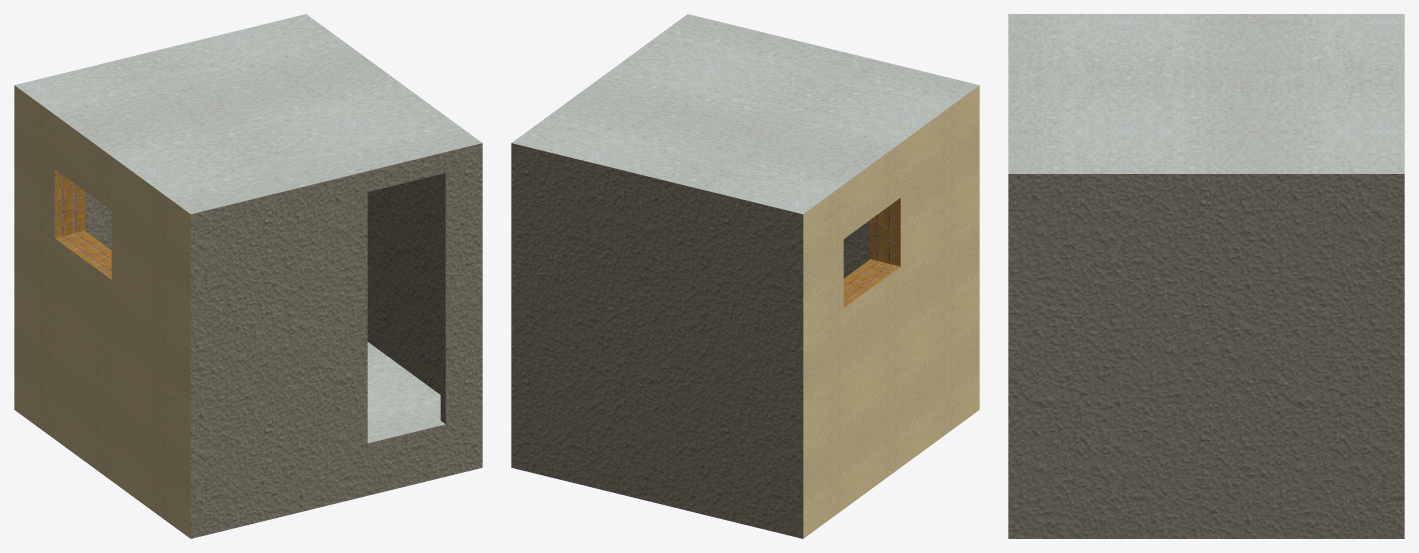
The model's file is chambre3_rdc.obj.
3 views of the same model, side by side, from view 1: azimuth 30°, elevation 25°; view 2: azimuth 150°, elevation 25°; view 3: azimuth 270°, elevation 25° (orthographic). The views are drawn at different scales.
Visible parts, largest first — view 1: Chambre3_RDC_Cube.014; view 2: Chambre3_RDC_Cube.014; view 3: Chambre3_RDC_Cube.014.
Part boxes in pixels (x1,y1,x2,y2): Chambre3_RDC_Cube.014: [14, 14, 482, 538]; Chambre3_RDC_Cube.014: [511, 14, 979, 538]; Chambre3_RDC_Cube.014: [1008, 14, 1404, 538].
Size of the model in its own units: 2.92 by 3.1 by 3.05.
